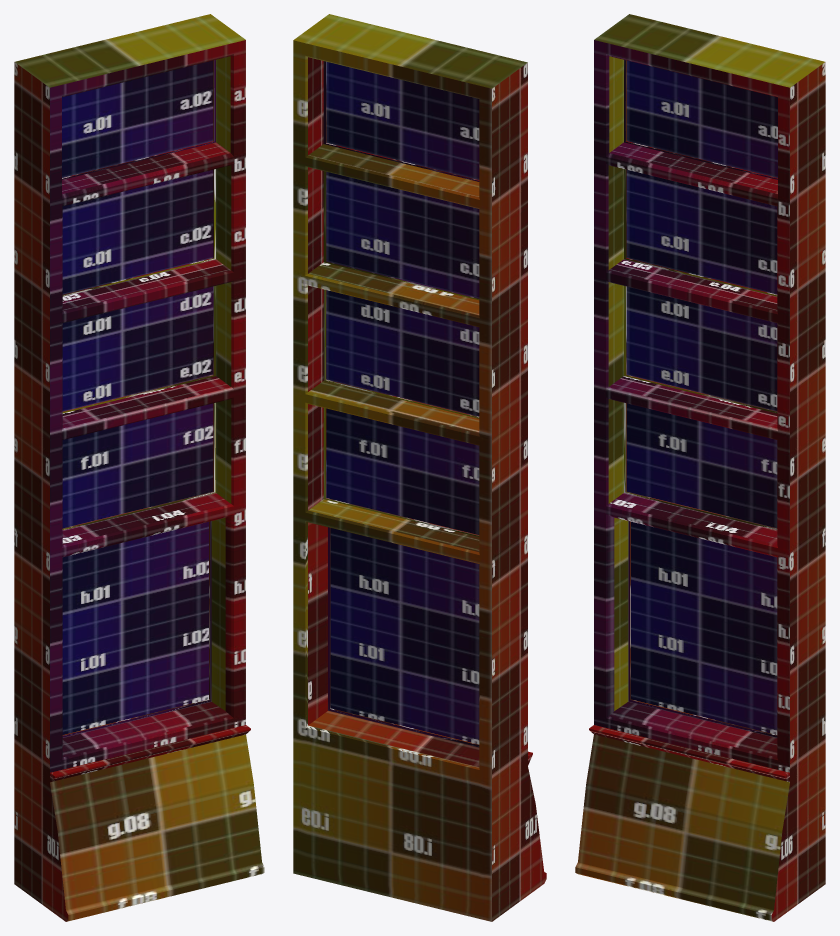
File: floor_to_ceiling_window02.fbx
3 renders of one model, left to right at view 1: azimuth 30°, elevation 25°; view 2: azimuth 150°, elevation 25°; view 3: azimuth 330°, elevation 25°, orthographic.
Parts seen in each view (by area): view 1: pCube1; view 2: pCube1; view 3: pCube1.
Part boxes in pixels (x1,y1,x2,y2): pCube1: (14, 14, 264, 921); pCube1: (293, 14, 546, 921); pCube1: (575, 14, 825, 921).
Bounding box in the file's own units: 346 × 1385 × 165.
